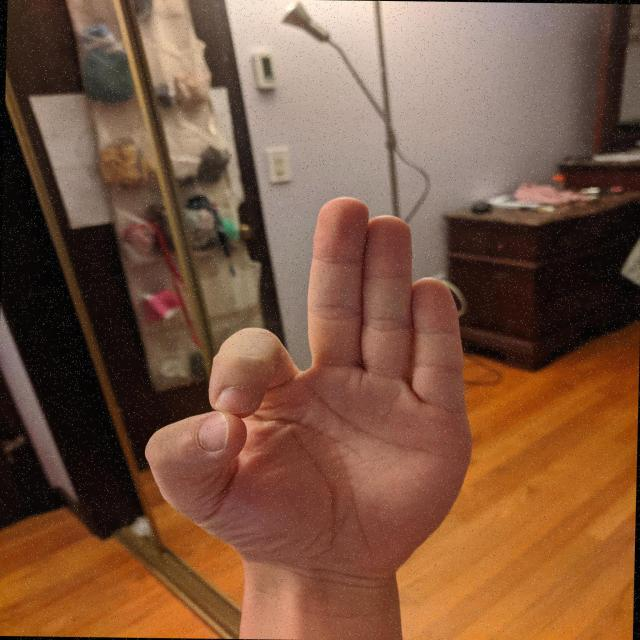F: (136, 188, 484, 587)
